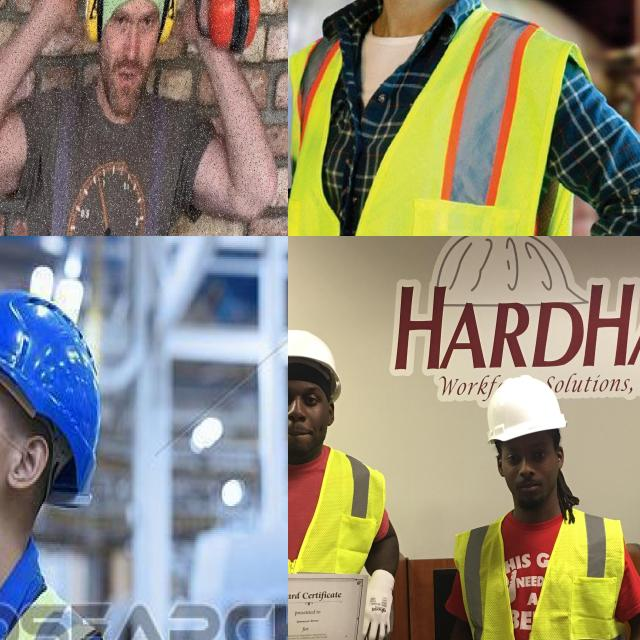Ear-protection: (157, 0, 184, 53), (80, 0, 110, 47)
No_Ear-Protection: (7, 429, 51, 492)
No_Glasses: (504, 448, 553, 469), (288, 384, 322, 414)
face_nomask: (491, 438, 568, 504), (0, 365, 23, 533), (288, 381, 330, 458)
hand_glove: (345, 567, 399, 640)
head_helmet: (0, 299, 94, 515), (478, 378, 574, 430), (288, 326, 358, 394)
person: (288, 0, 640, 236), (0, 275, 169, 640), (434, 378, 640, 640), (288, 315, 374, 640)
vest: (288, 5, 572, 236), (456, 510, 640, 640), (288, 440, 360, 640)
